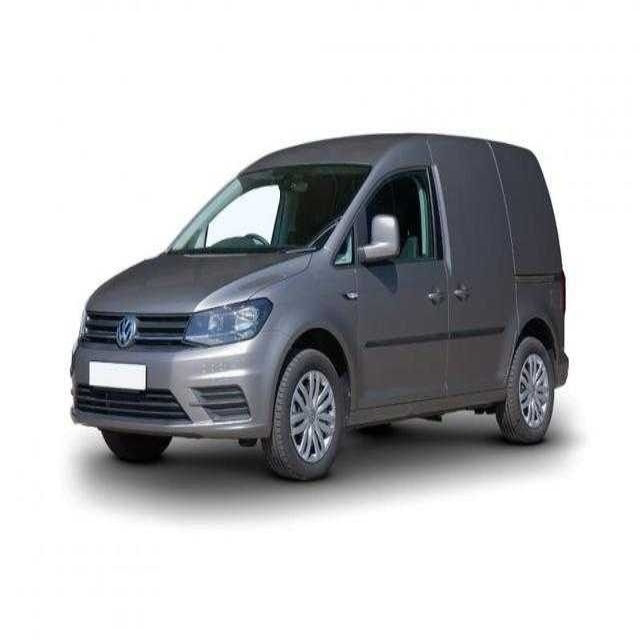Van: (69, 133, 569, 481)
